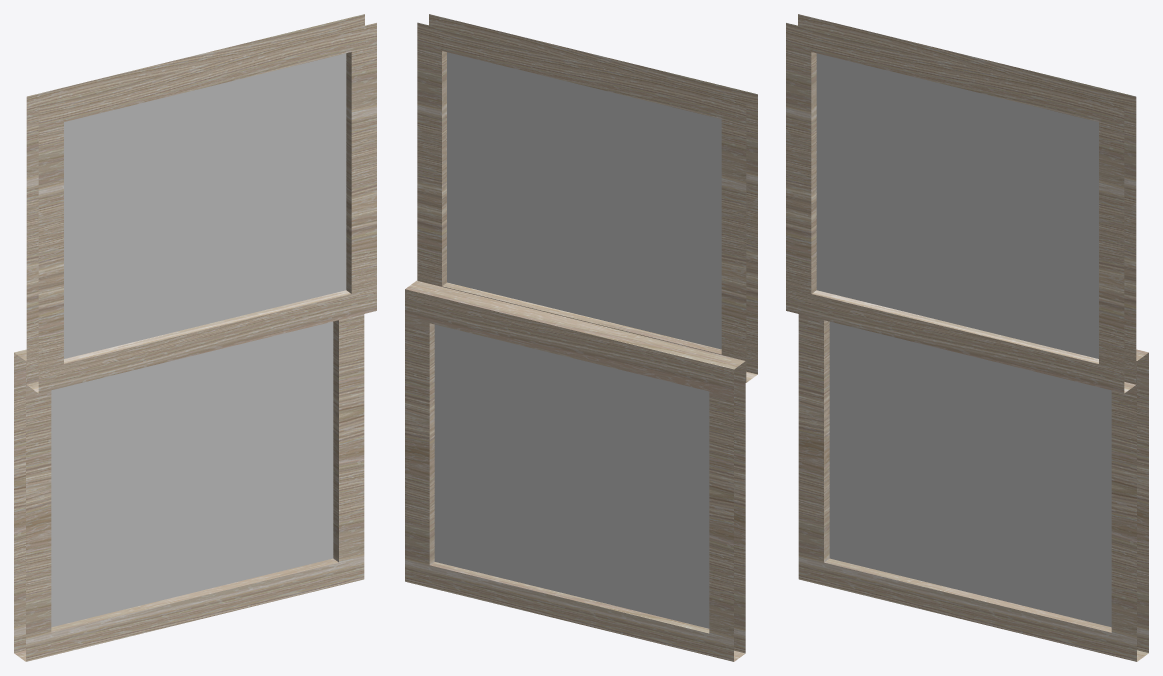
The model's file is FLAT_window_02.FBX.
3 renders of one model, left to right at view 1: azimuth 30°, elevation 25°; view 2: azimuth 150°, elevation 25°; view 3: azimuth 330°, elevation 25°, orthographic. The views are drawn at different scales.
Visible parts, largest first — view 1: FLAT_window_02_glassB, FLAT_window_02_glassA, FLAT_base_02, FLAT_window_02_openablePart; view 2: FLAT_window_02_glassB, FLAT_window_02_glassA, FLAT_window_02_openablePart, FLAT_base_02; view 3: FLAT_window_02_glassB, FLAT_window_02_glassA, FLAT_base_02, FLAT_window_02_openablePart.
Boxes of the visible parts, <box> form: FLAT_window_02_glassB: <box>51,321,333,627</box>; FLAT_window_02_glassA: <box>64,53,346,358</box>; FLAT_base_02: <box>26,14,376,393</box>; FLAT_window_02_openablePart: <box>14,314,364,661</box>; FLAT_window_02_glassB: <box>434,324,709,628</box>; FLAT_window_02_glassA: <box>447,52,721,349</box>; FLAT_window_02_openablePart: <box>405,280,745,661</box>; FLAT_base_02: <box>417,14,757,382</box>; FLAT_window_02_glassB: <box>829,321,1111,627</box>; FLAT_window_02_glassA: <box>816,53,1098,358</box>; FLAT_base_02: <box>786,14,1136,393</box>; FLAT_window_02_openablePart: <box>798,314,1148,661</box>.
Size of the model in its own units: 155 by 247 by 19.38.
Materials: 1 (1 with a texture image).
